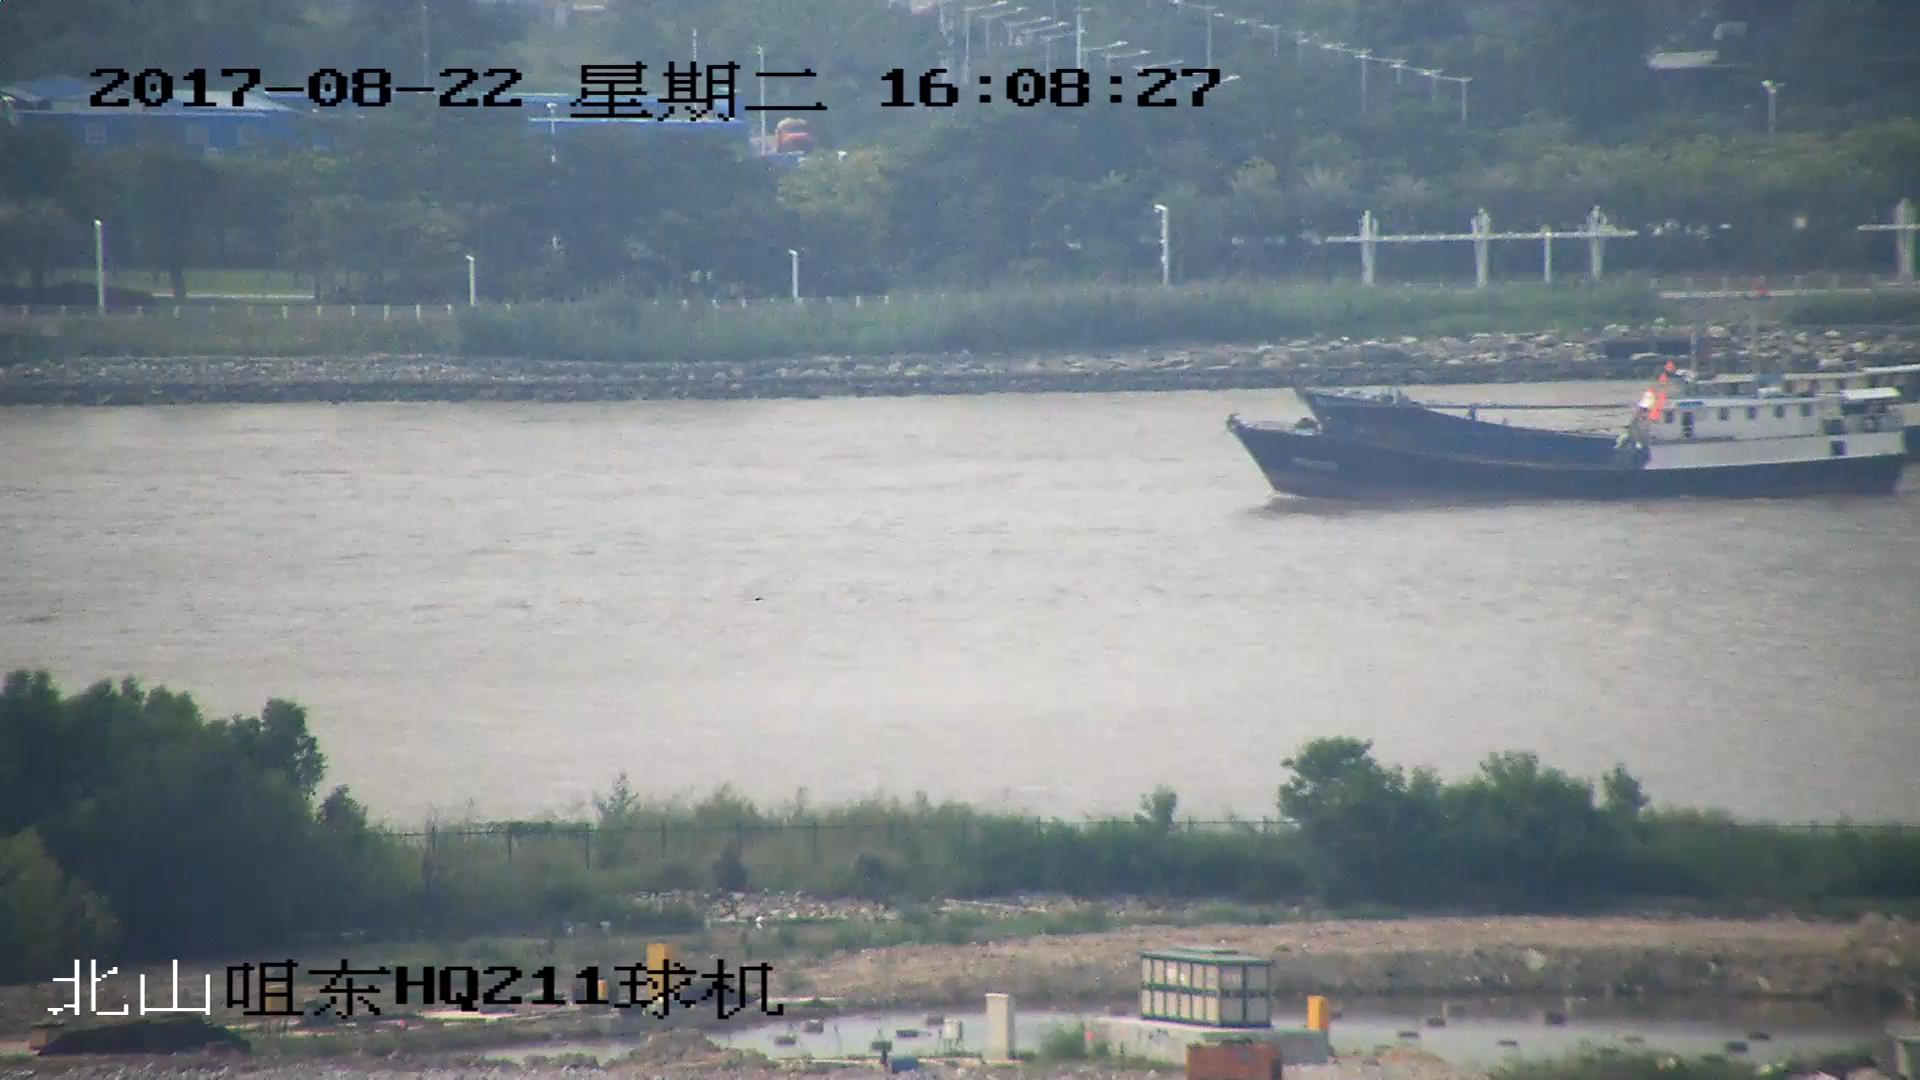fishing boat: (1221, 382, 1910, 501), (1299, 348, 1920, 471)
